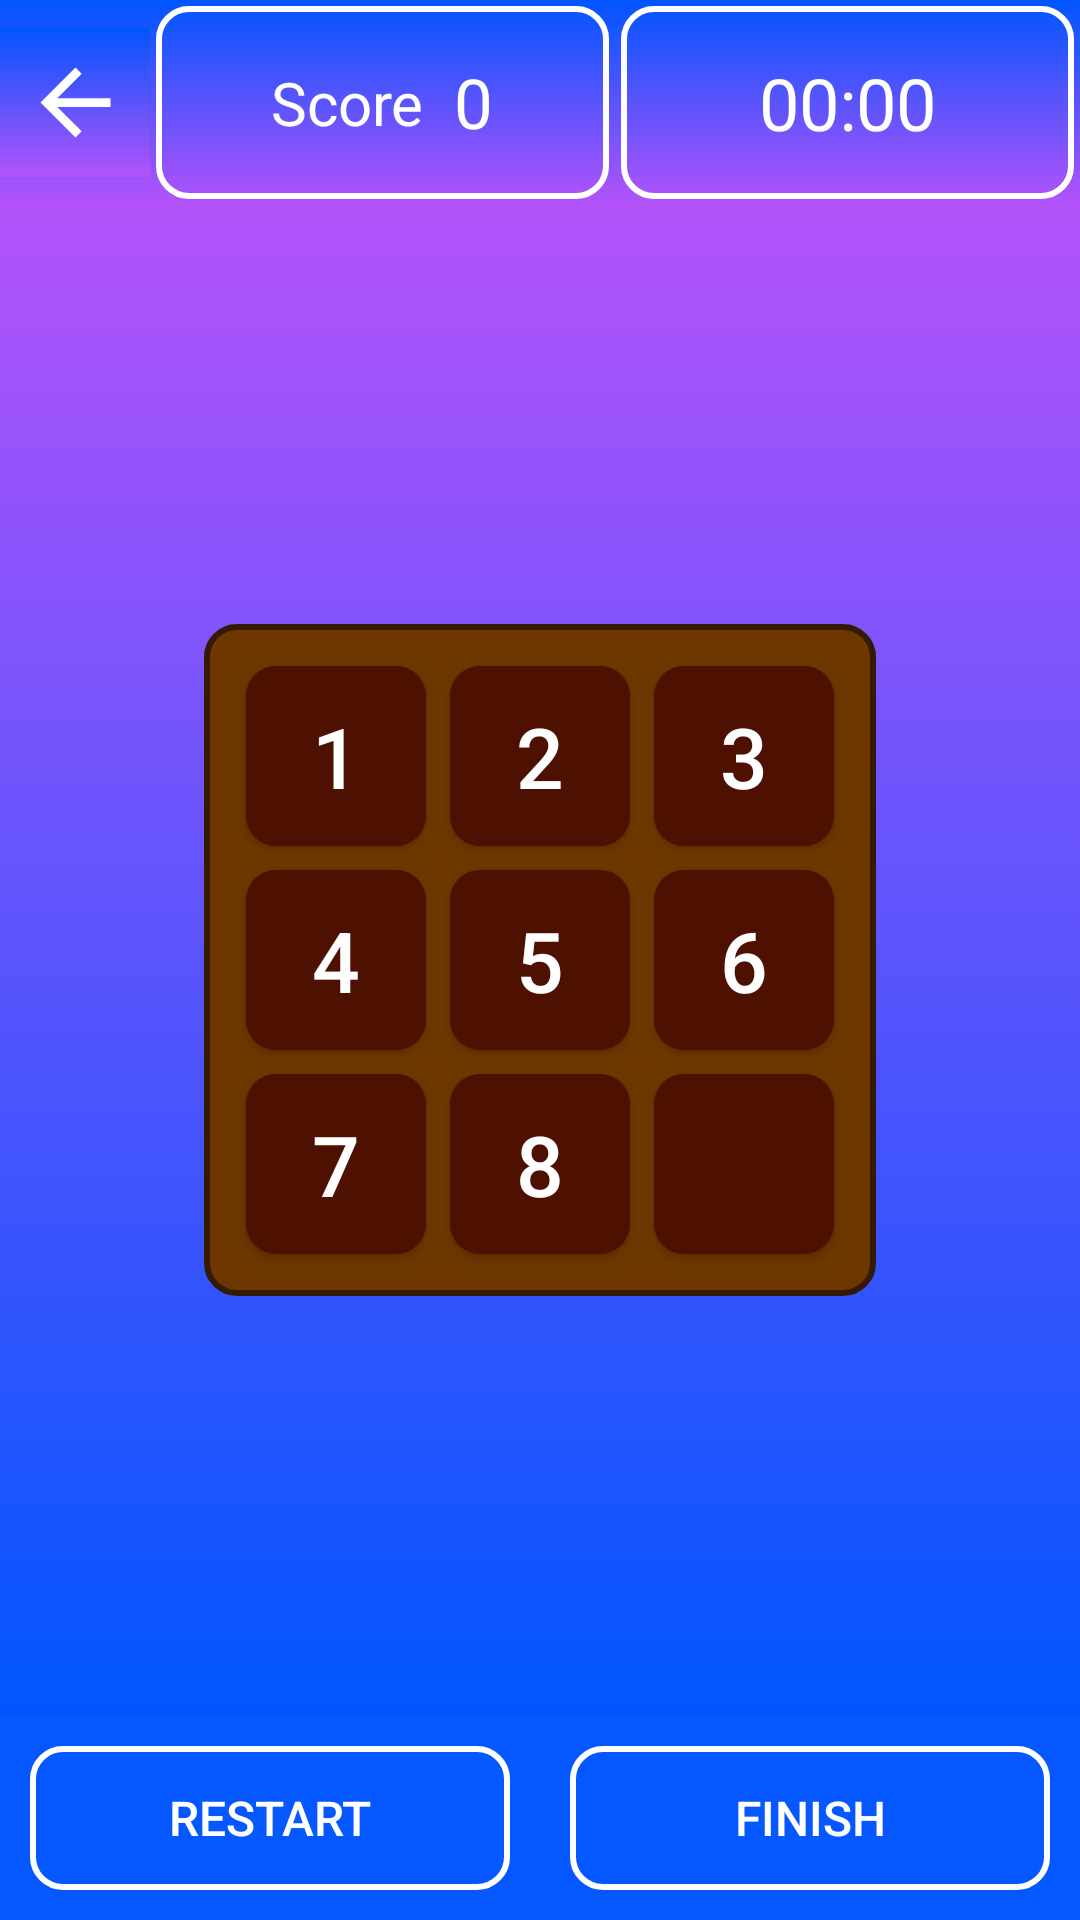

Screen size 1080x1920. Icon name, then its center in pixels as [x,y]:
arrow back: [75,102]
